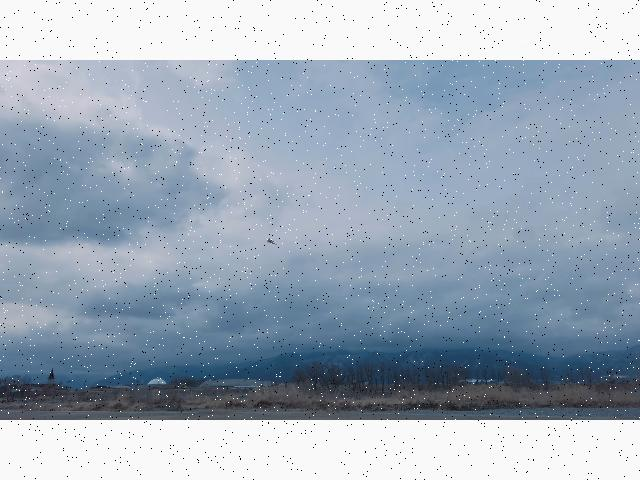Anti-Drone: (264, 236, 276, 247)
